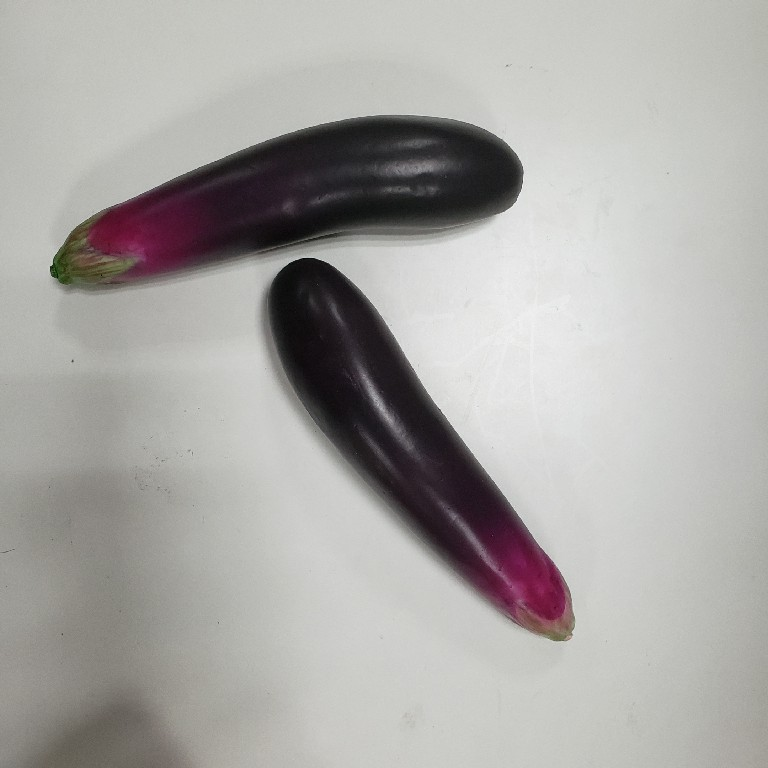fruit_eggplant: (264, 253, 581, 649), (46, 109, 525, 292)
